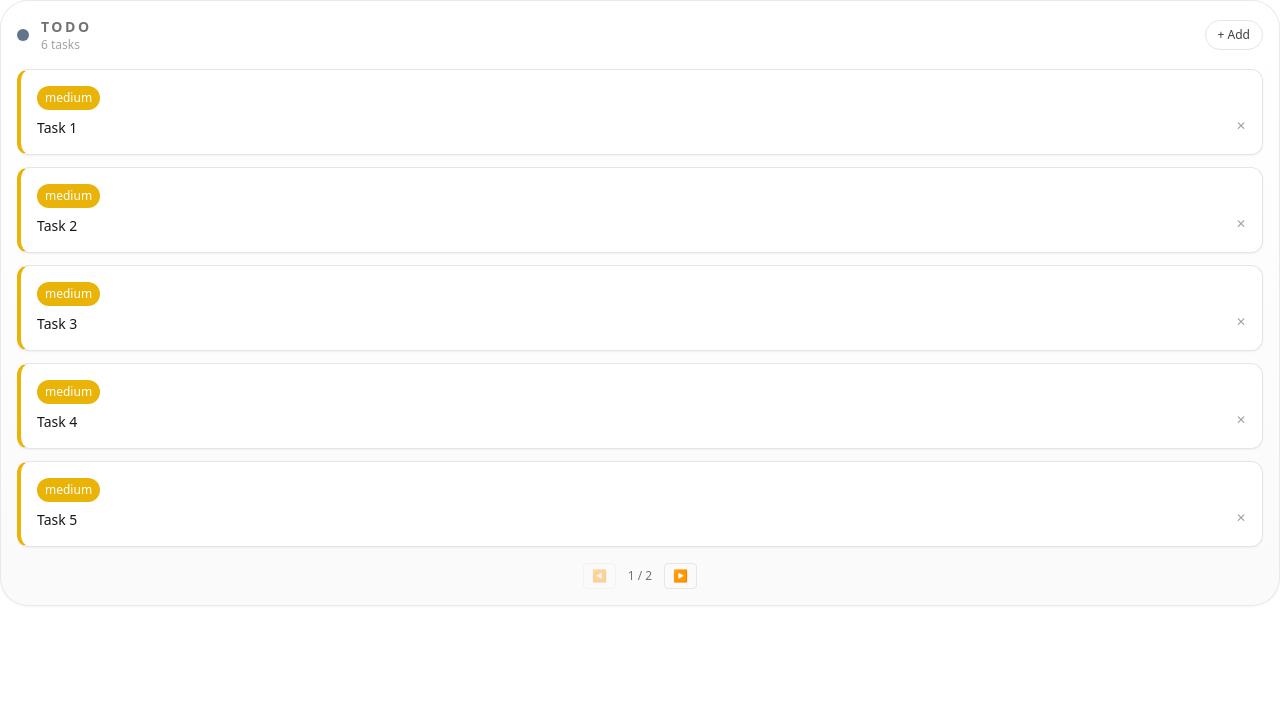
Test: KanbanColumn › adds tasks and paginates long columns
Expected: the text "6 tasks" is shown, x1=41 y1=36 x2=80 y2=53
Expected: the text "Task 1" is shown, x1=37 y1=118 x2=77 y2=138
What coordinates should you click on to do the following:
click the button "+ Add"
I would click on:
 (1234, 35)
Its box is x1=1205 y1=20 x2=1263 y2=50.
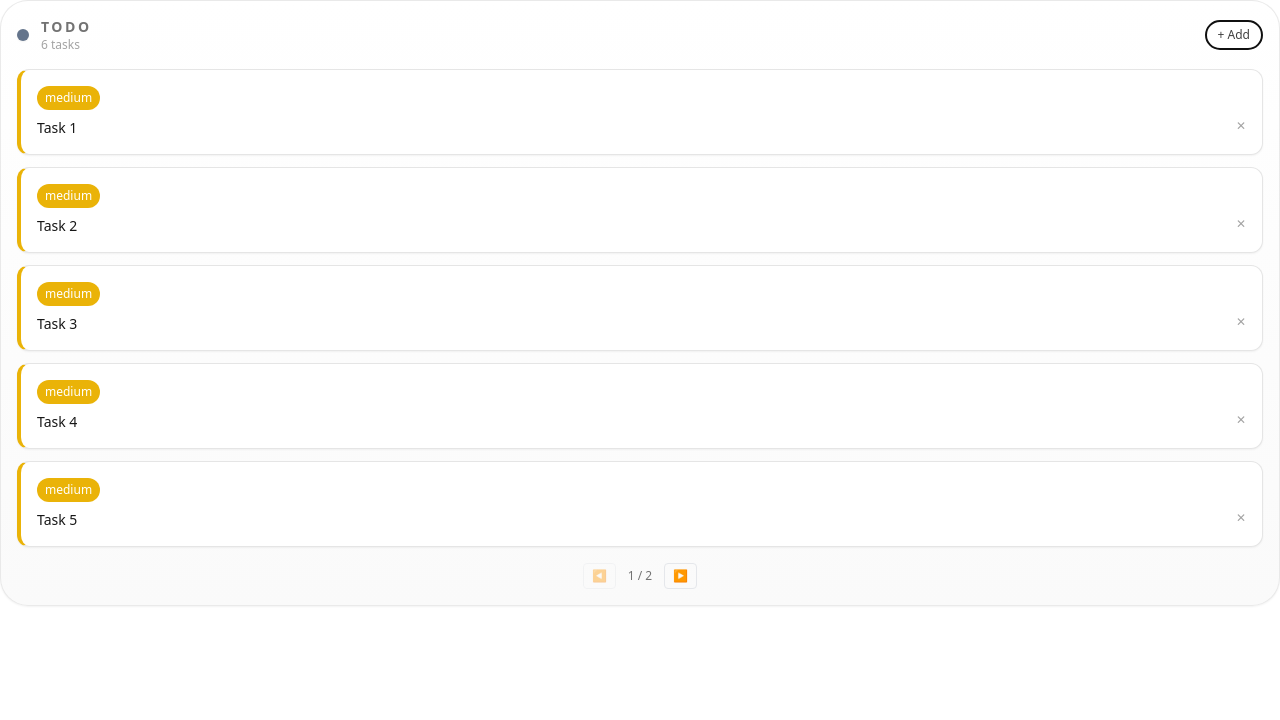
What coordinates should you click on to do the following:
click the button "▶"
I would click on:
 (681, 576)
Its box is x1=664 y1=563 x2=697 y2=589.
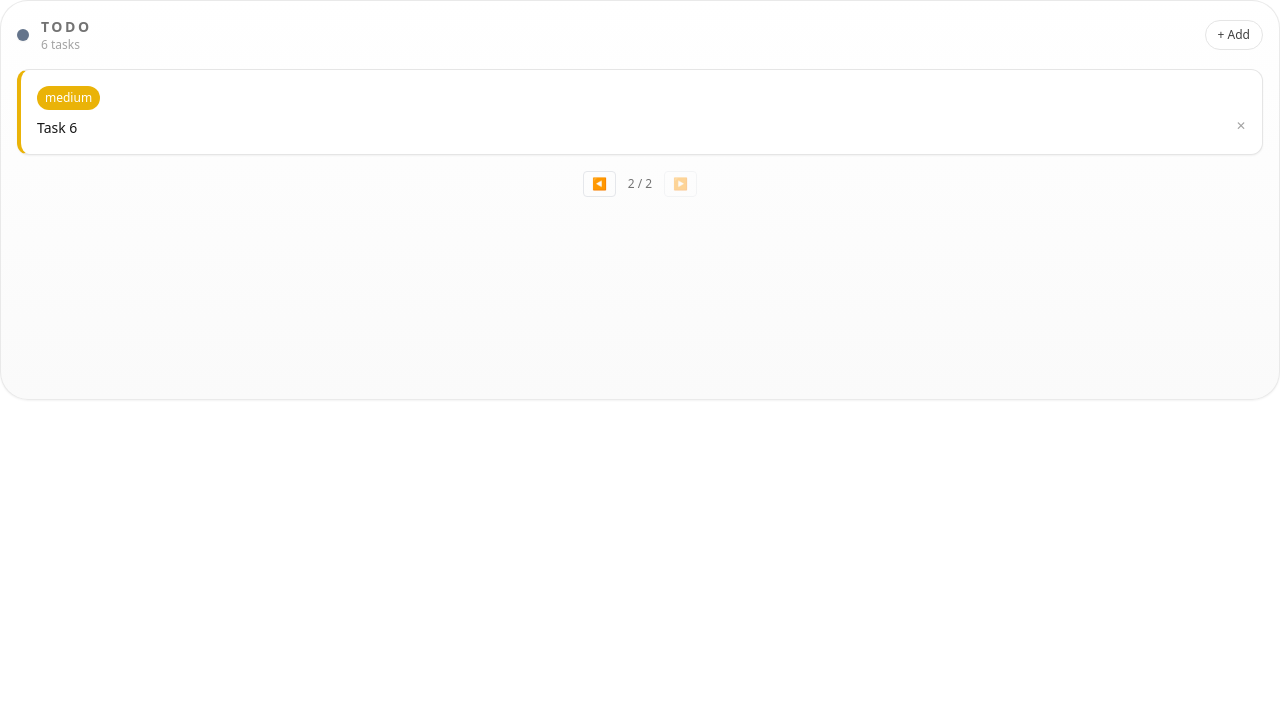
Expected: the text "Task 6" is shown, x1=37 y1=118 x2=77 y2=138
